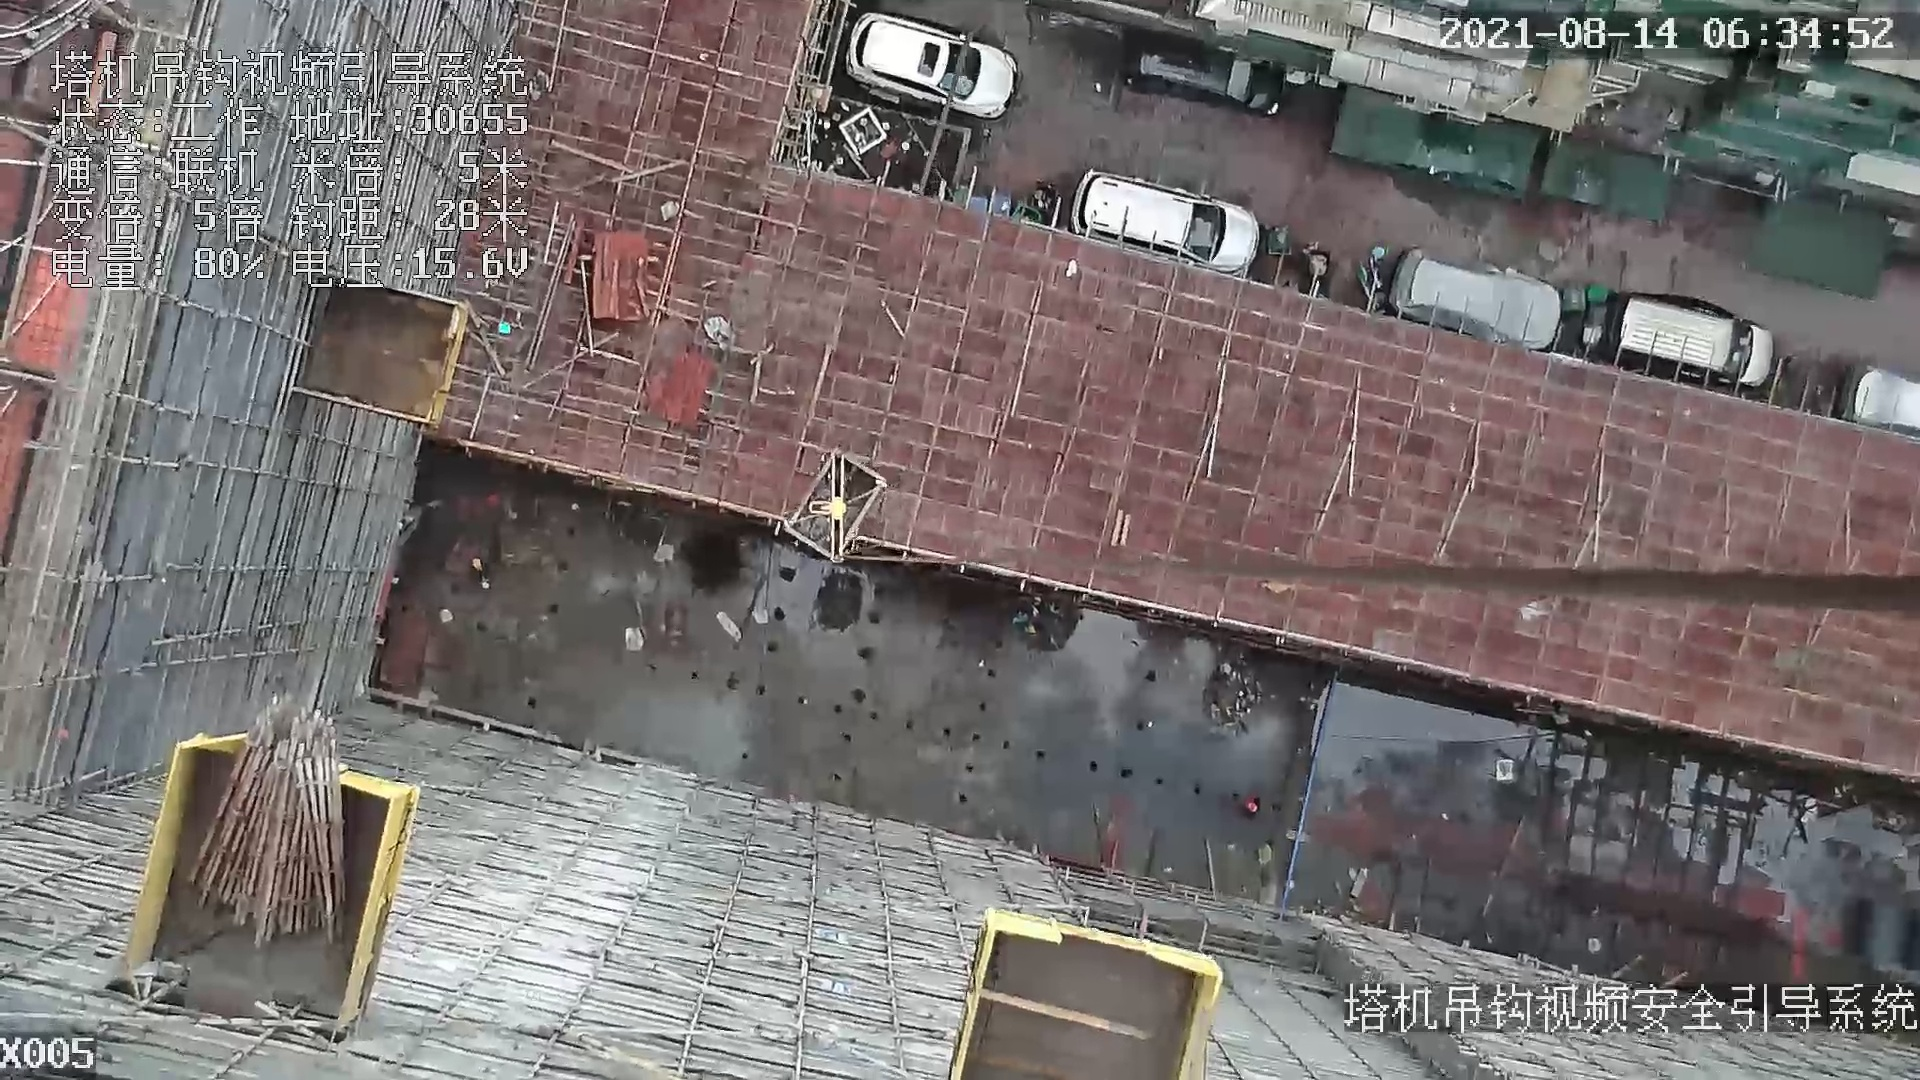hook: (810, 456, 841, 560)
hopper: (777, 442, 890, 568)
scaffold: (199, 691, 345, 942)
